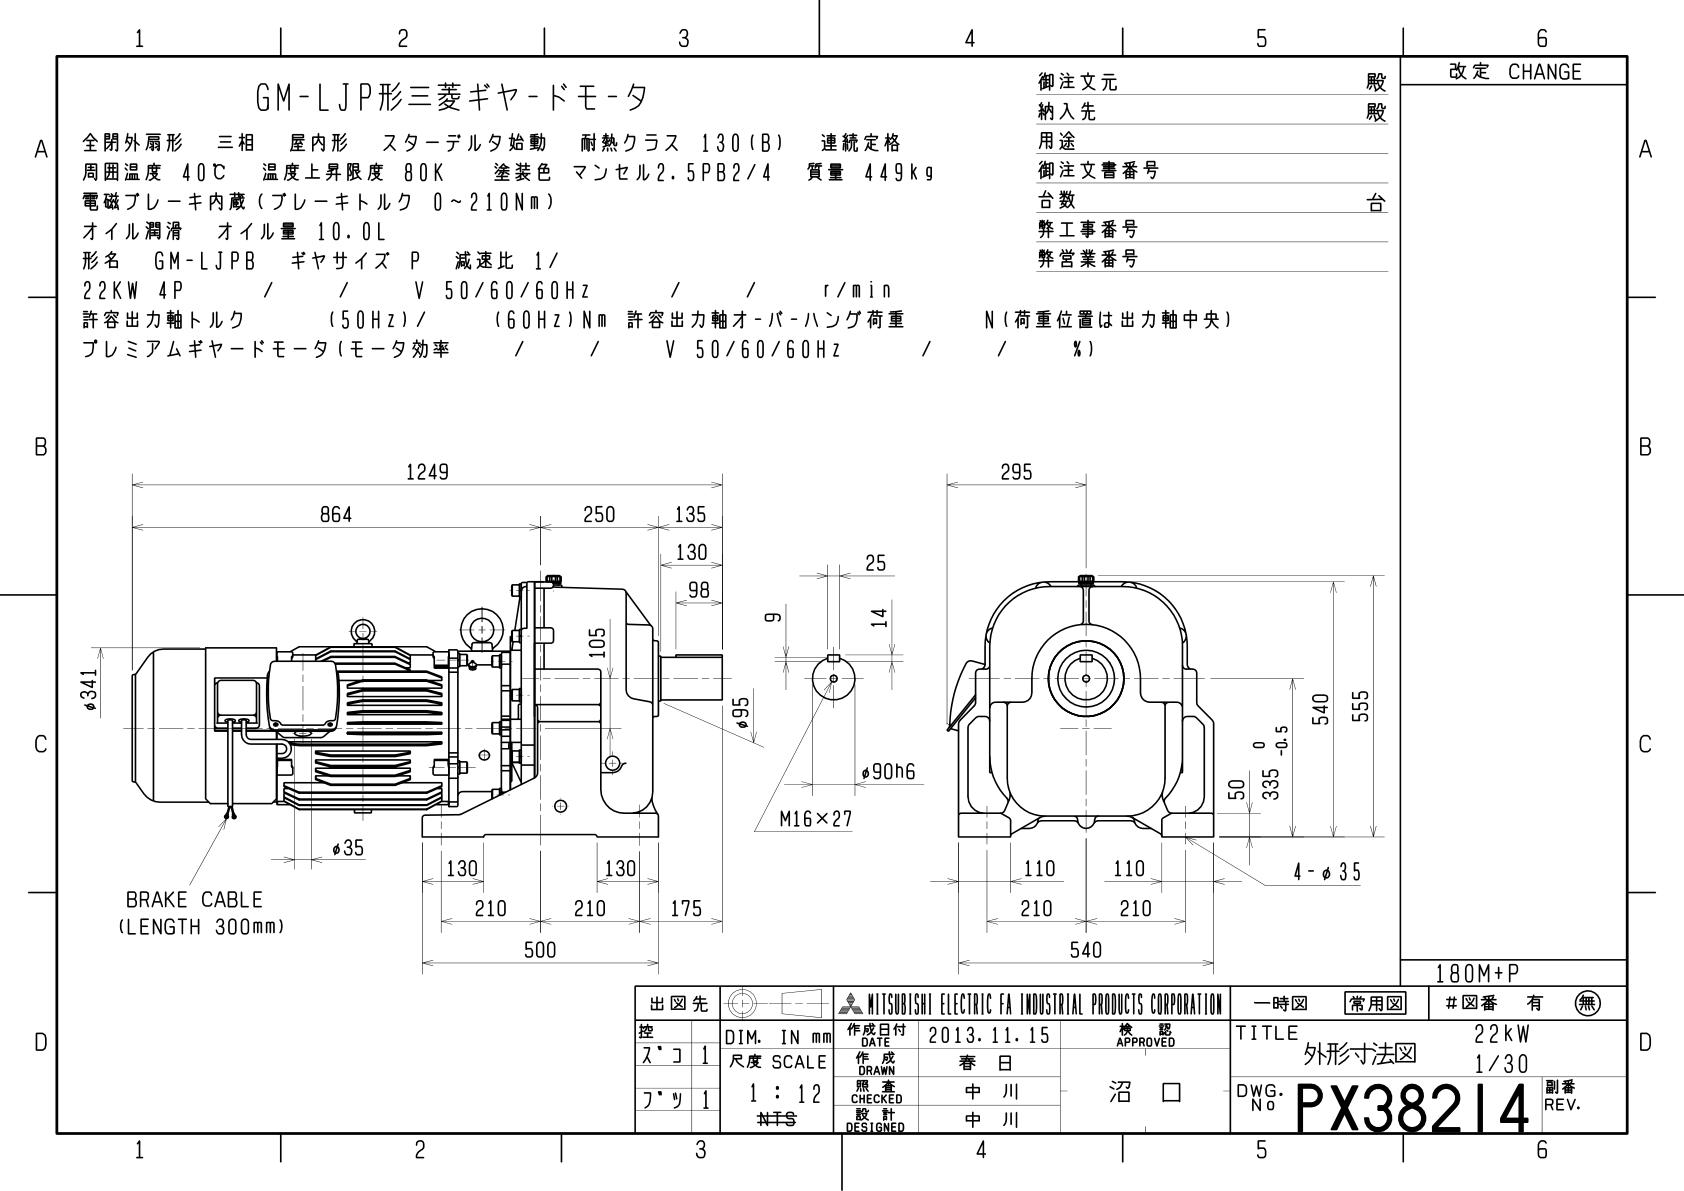GM_LJP_屋内_三相_脚: (77, 414, 1389, 978)
